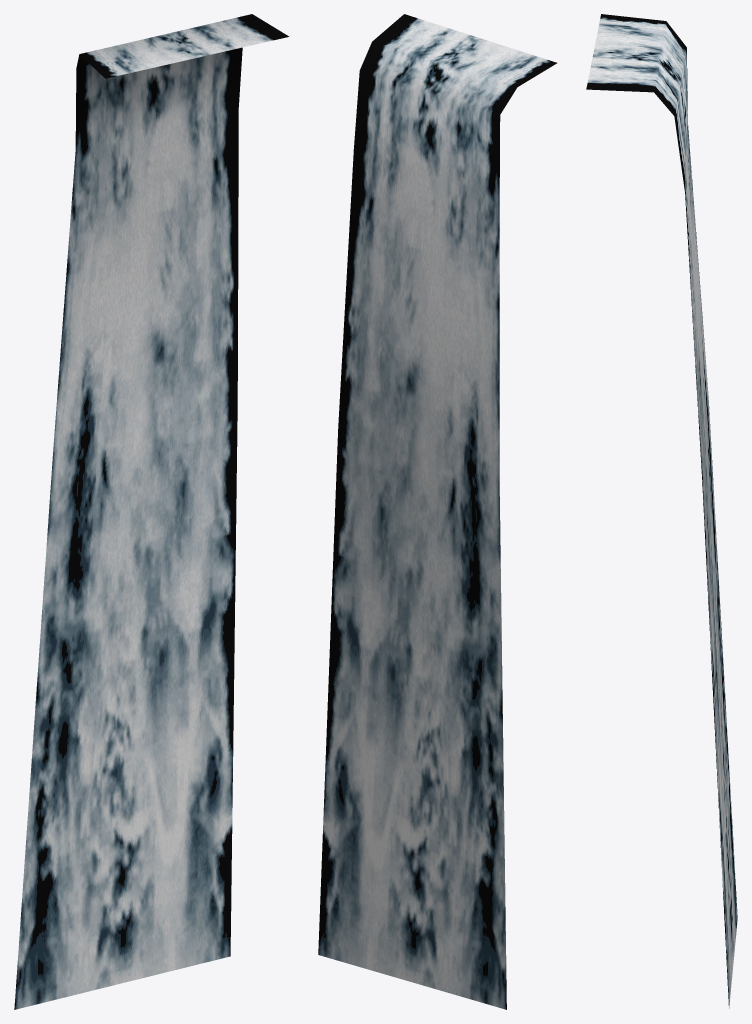
The model's file is 4006_shui_2.FBX.
3 views of the same model, side by side, from view 1: azimuth 30°, elevation 25°; view 2: azimuth 150°, elevation 25°; view 3: azimuth 270°, elevation 25° (orthographic). The views are drawn at different scales.
Parts seen in each view (by area): view 1: 4006_shui_2; view 2: 4006_shui_2; view 3: 4006_shui_2.
Boxes of the visible parts, box(x1,y1,x2,y2) form: 4006_shui_2: box(14, 14, 289, 1009); 4006_shui_2: box(318, 14, 556, 1009); 4006_shui_2: box(586, 14, 737, 1008).
Size of the model in its own units: 157 by 105 by 699.
